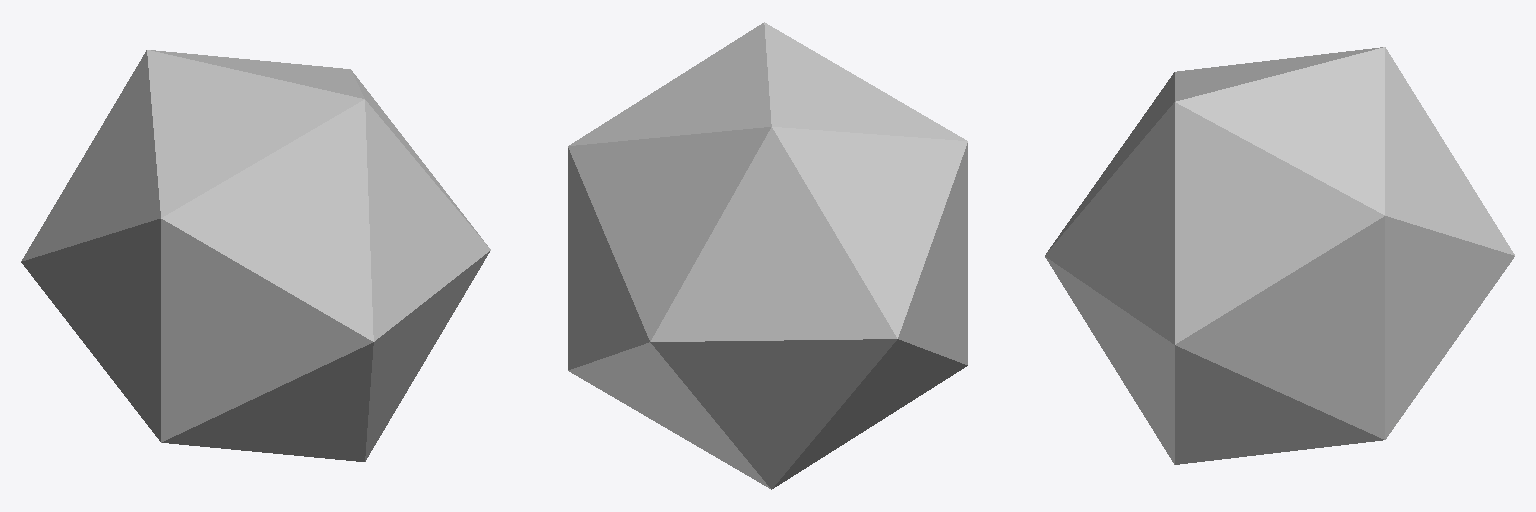
File: button_2.obj
The picture shows the model from 3 angles: view 1: azimuth 30°, elevation 25°; view 2: azimuth 150°, elevation 25°; view 3: azimuth 270°, elevation 25°; orthographic projection.
Visible parts, largest first — view 1: pasted__button2 group; view 2: pasted__button2 group; view 3: pasted__button2 group.
Part boxes in pixels (x1,y1,x2,y2): pasted__button2 group: (21, 50, 490, 461); pasted__button2 group: (568, 22, 967, 489); pasted__button2 group: (1045, 47, 1514, 464).
Size of the model in its own units: 0.5367 by 0.5104 by 0.6.